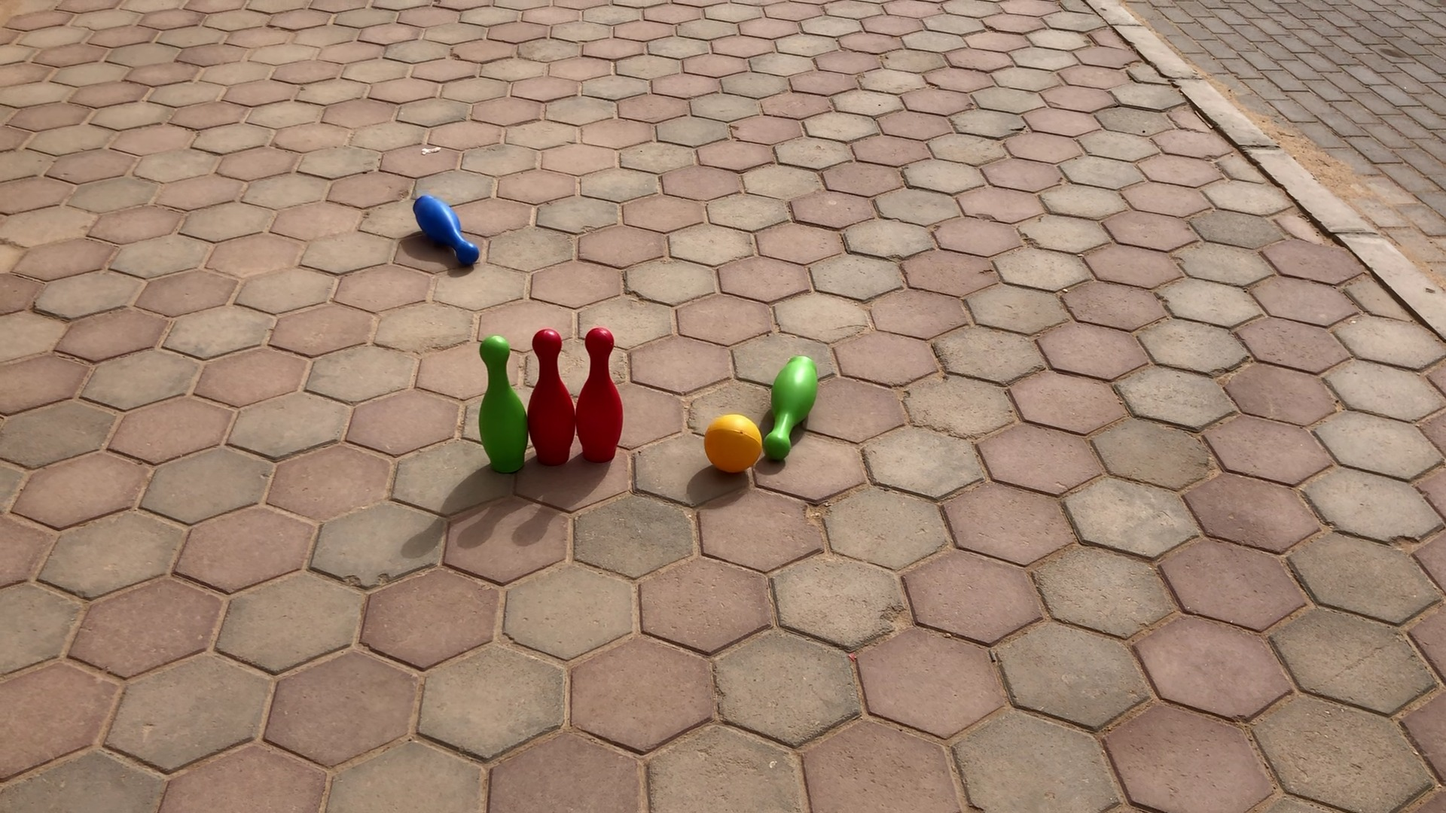bowling-pin: (477, 334, 529, 473), (569, 327, 621, 462), (520, 329, 570, 465), (762, 357, 817, 463), (416, 195, 480, 266)
